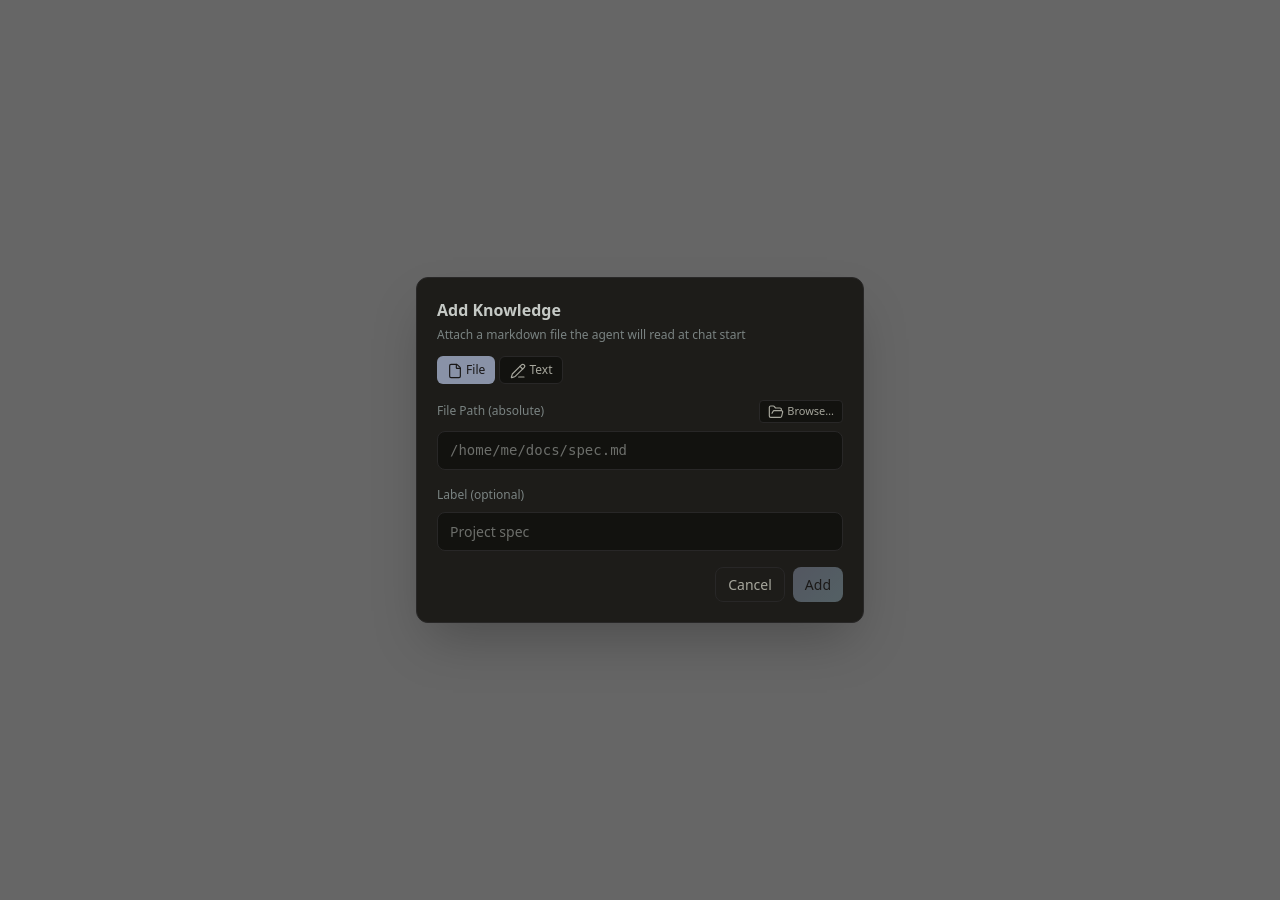
Test: AgentKnowledgeDialog › shows an error for non-absolute paths after interaction
Type "relative/path.md" into the field with test id "agent-knowledge-path" at (640, 450), box [437,431,843,470]
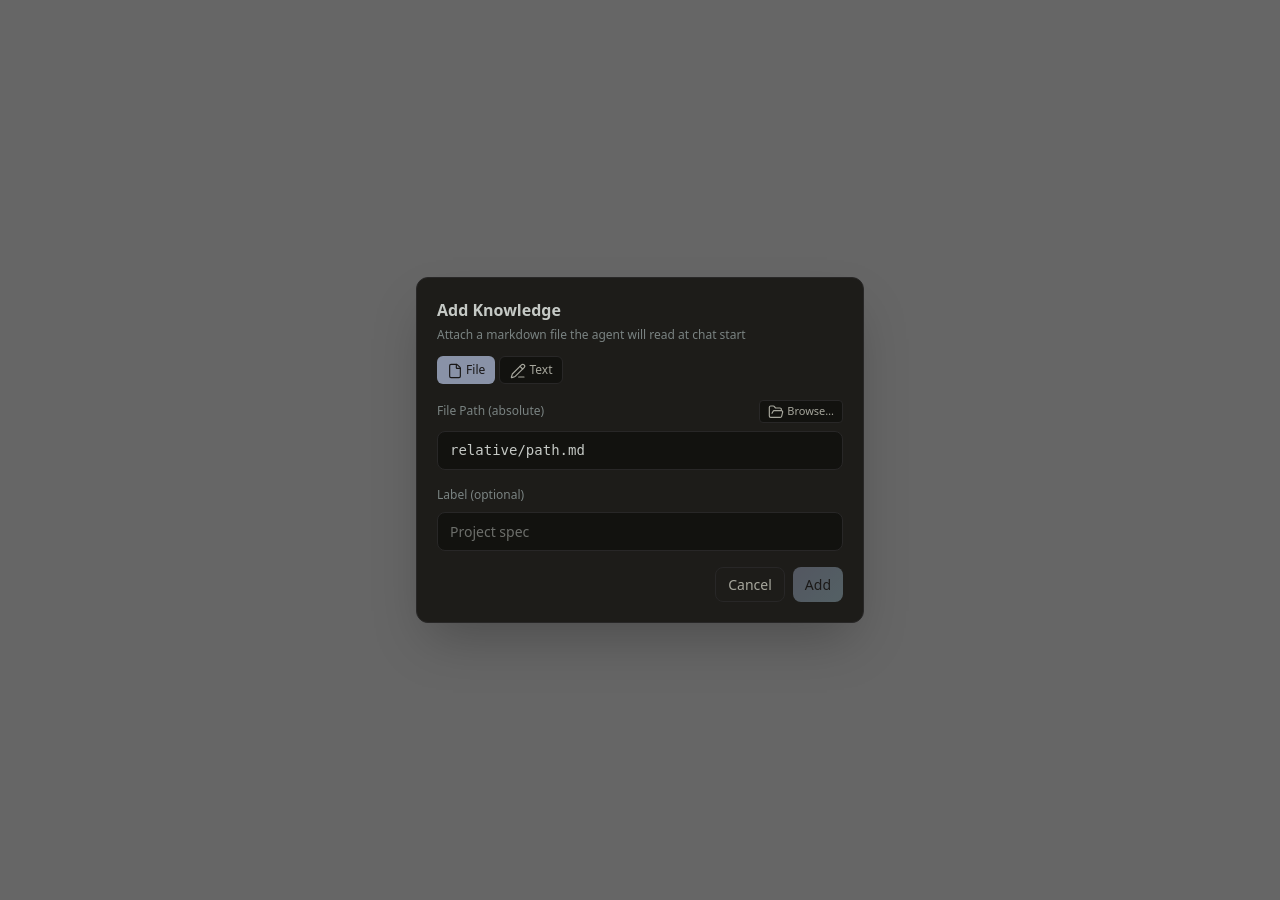
Leave the field with test id "agent-knowledge-path", box [437,431,843,470]
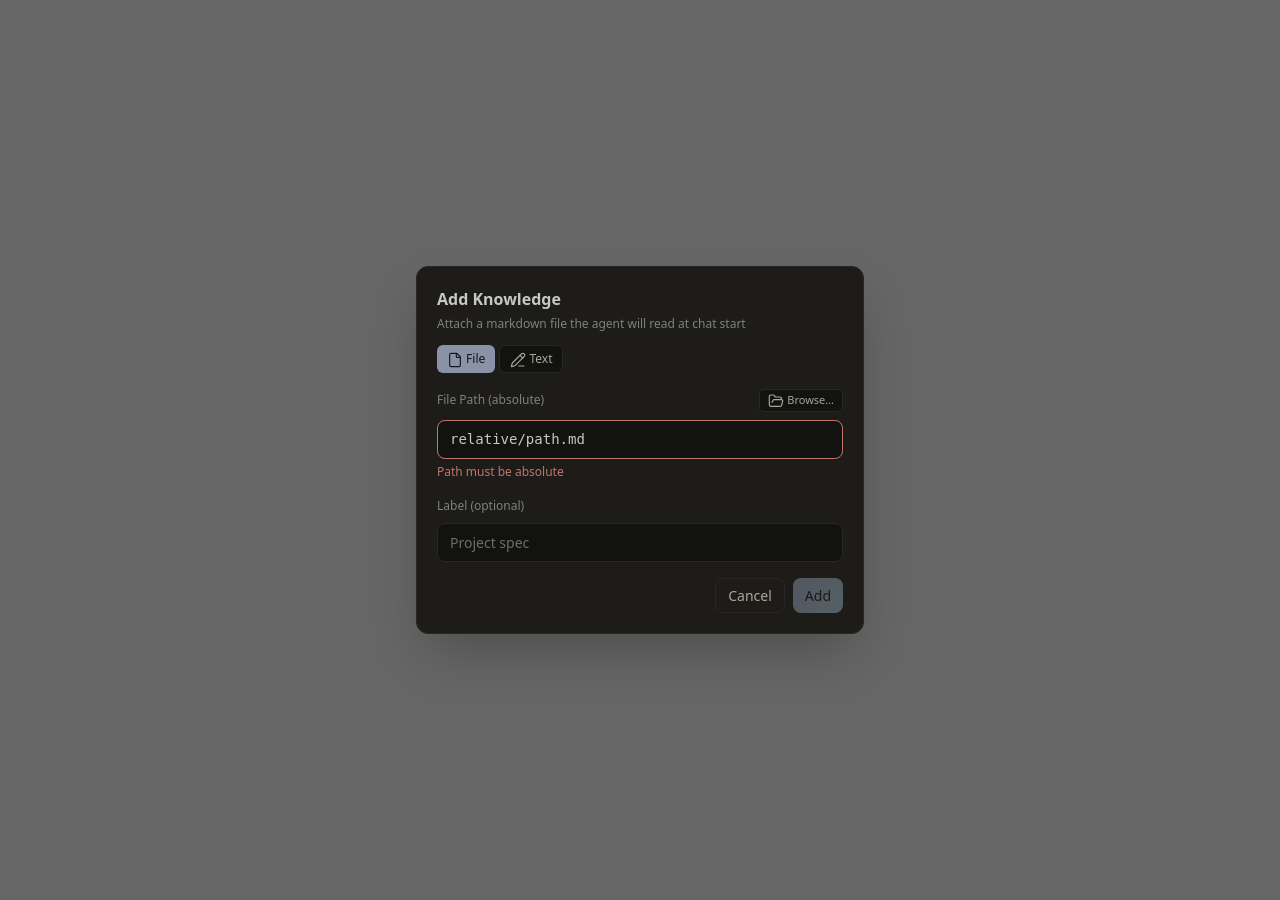
Check: the text with test id "agent-knowledge-path-error" shows "absolute", box [437,463,564,480]
